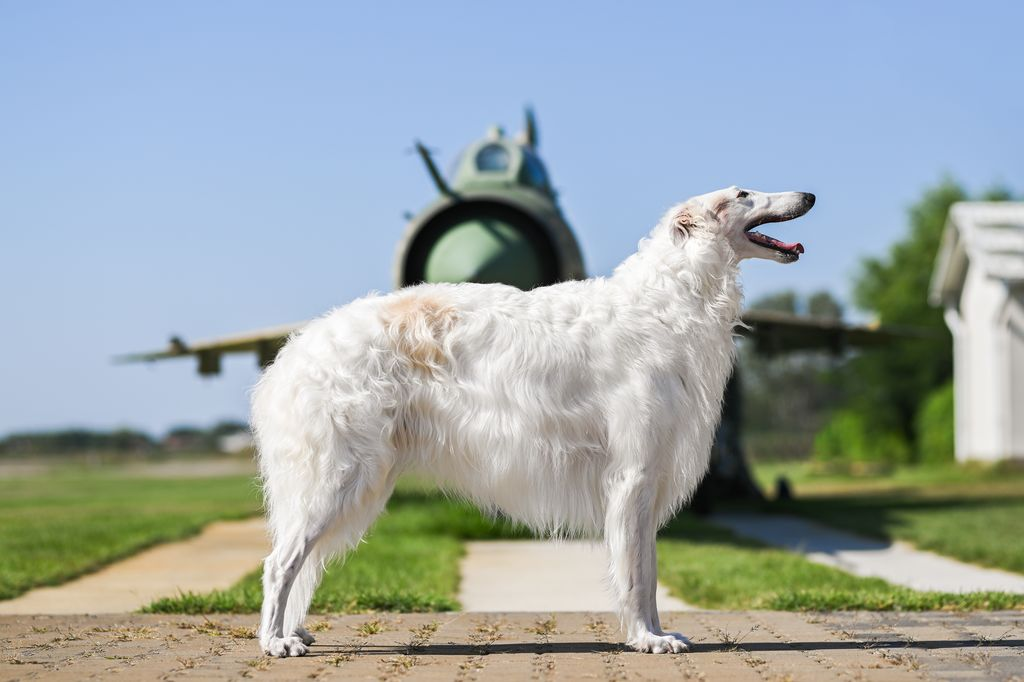borzoi: (238, 178, 839, 667)
